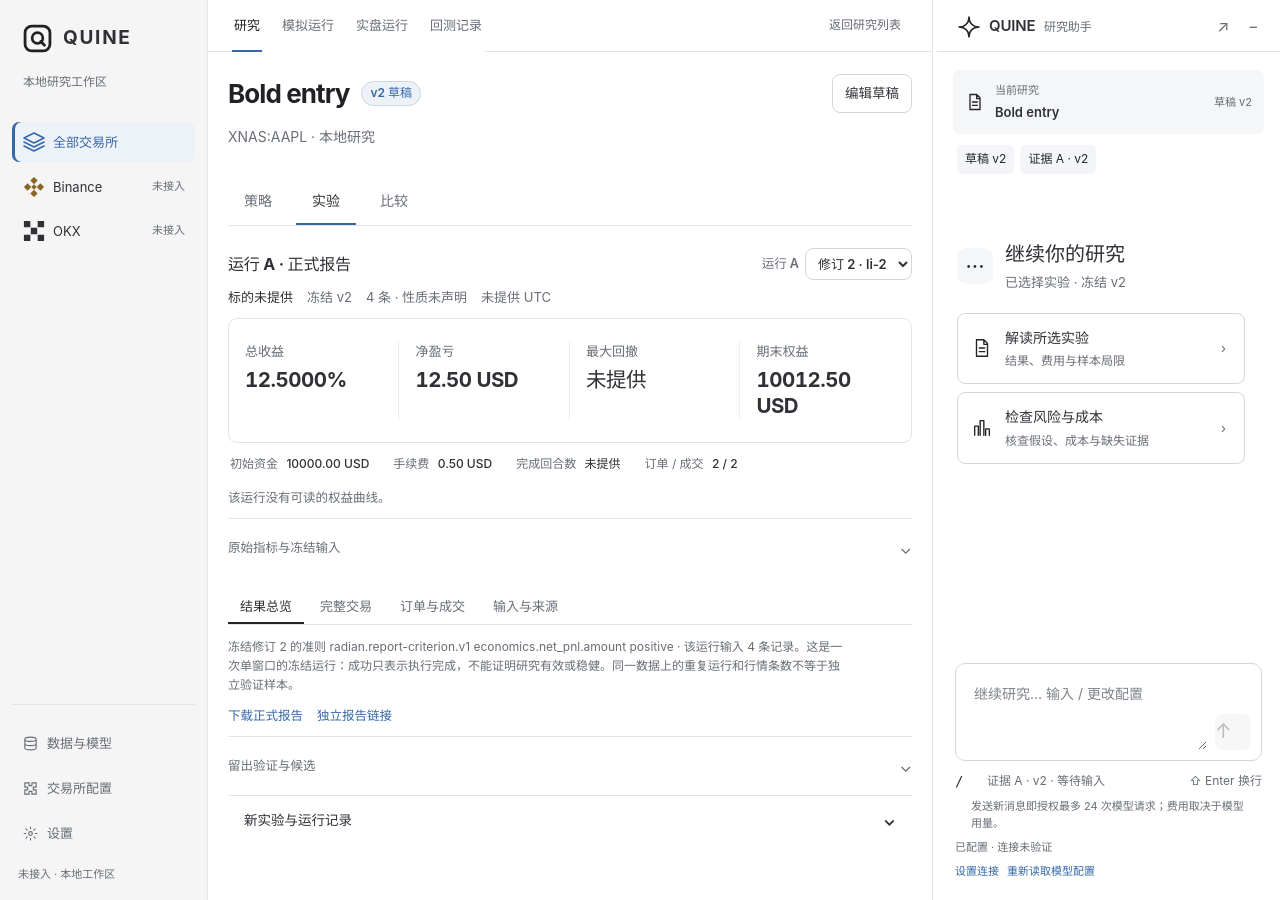
it: user strategy evidence comparison › reads two runs and shows exact B − A deltas, their differences and their limits
Click the tab "比较": x=394, y=202 [364,179,424,225]
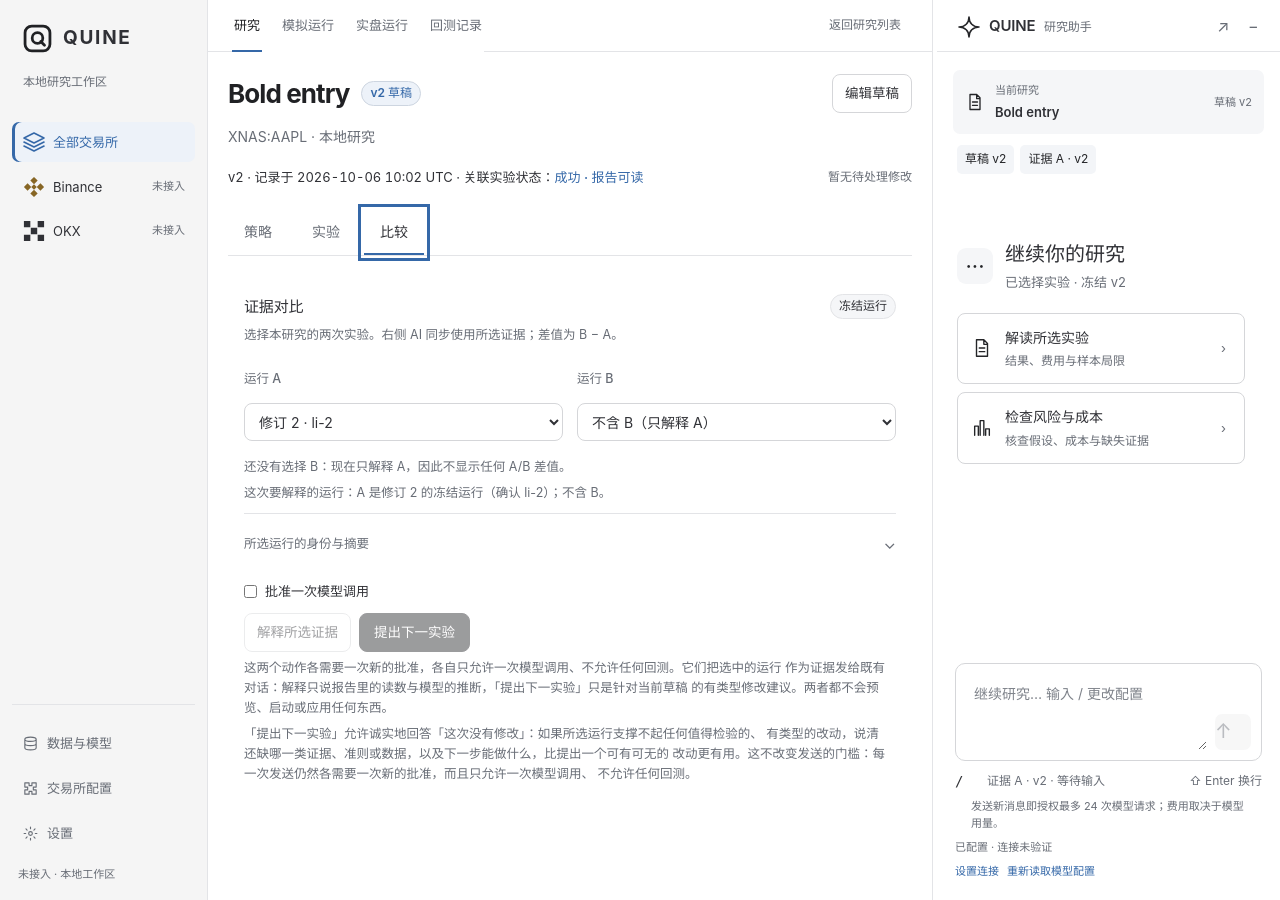
Now the dropdown labelled "运行 A" shows "修订 2 · li-2", box [244,403,563,441]
Now the dropdown labelled "运行 B" shows "不含 B（只解释 A）"
Select "修订 1 · li-1" in the dropdown labelled "运行 B": x=736, y=422 [577,403,896,441]
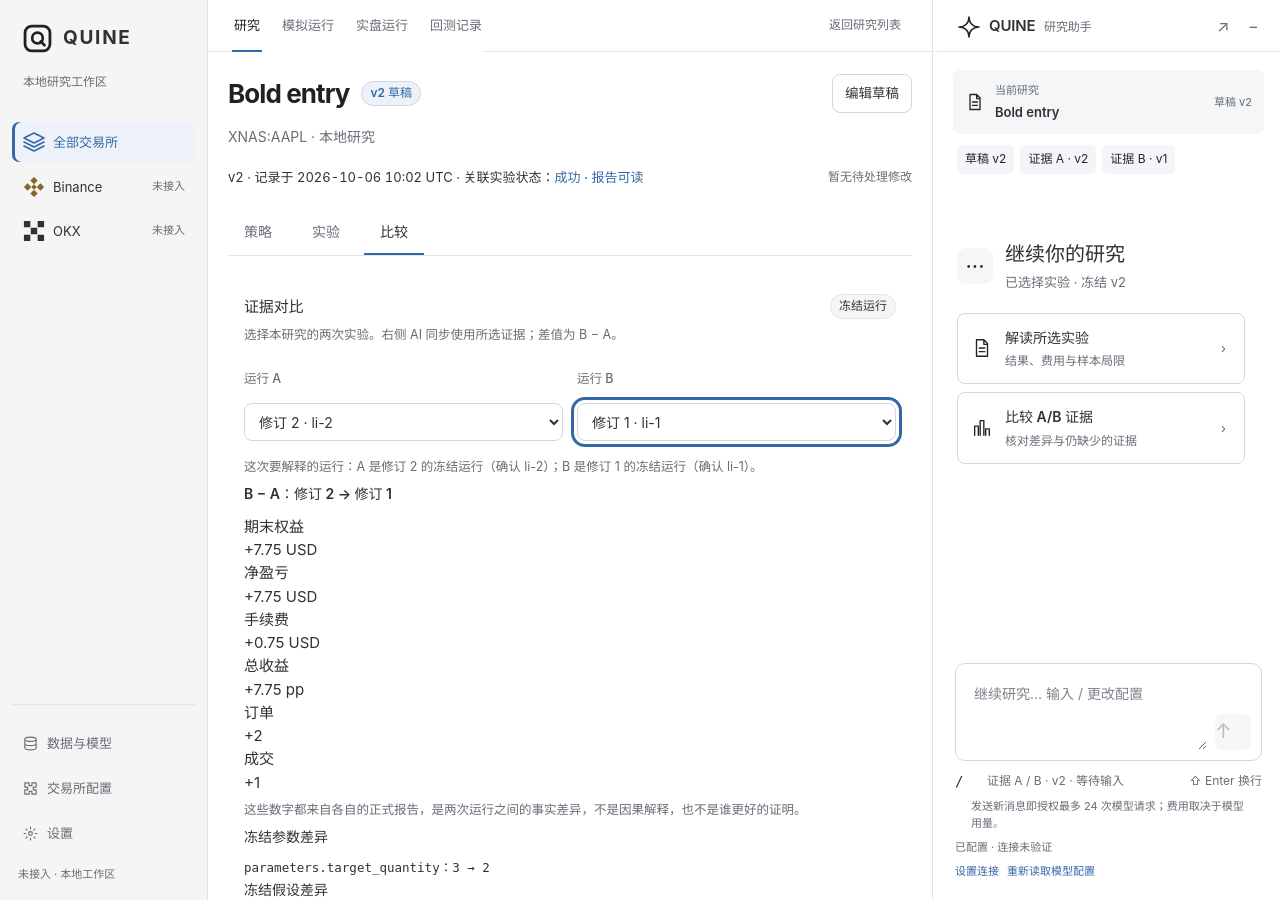
Now the text "不显示任何 A/B 差值" is gone
Now the text "+7.75 USD" is shown 2 times, box [244,540,317,559]; [244,587,317,606]
Now the text "+0.75 USD" is shown, box [244,633,320,652]
